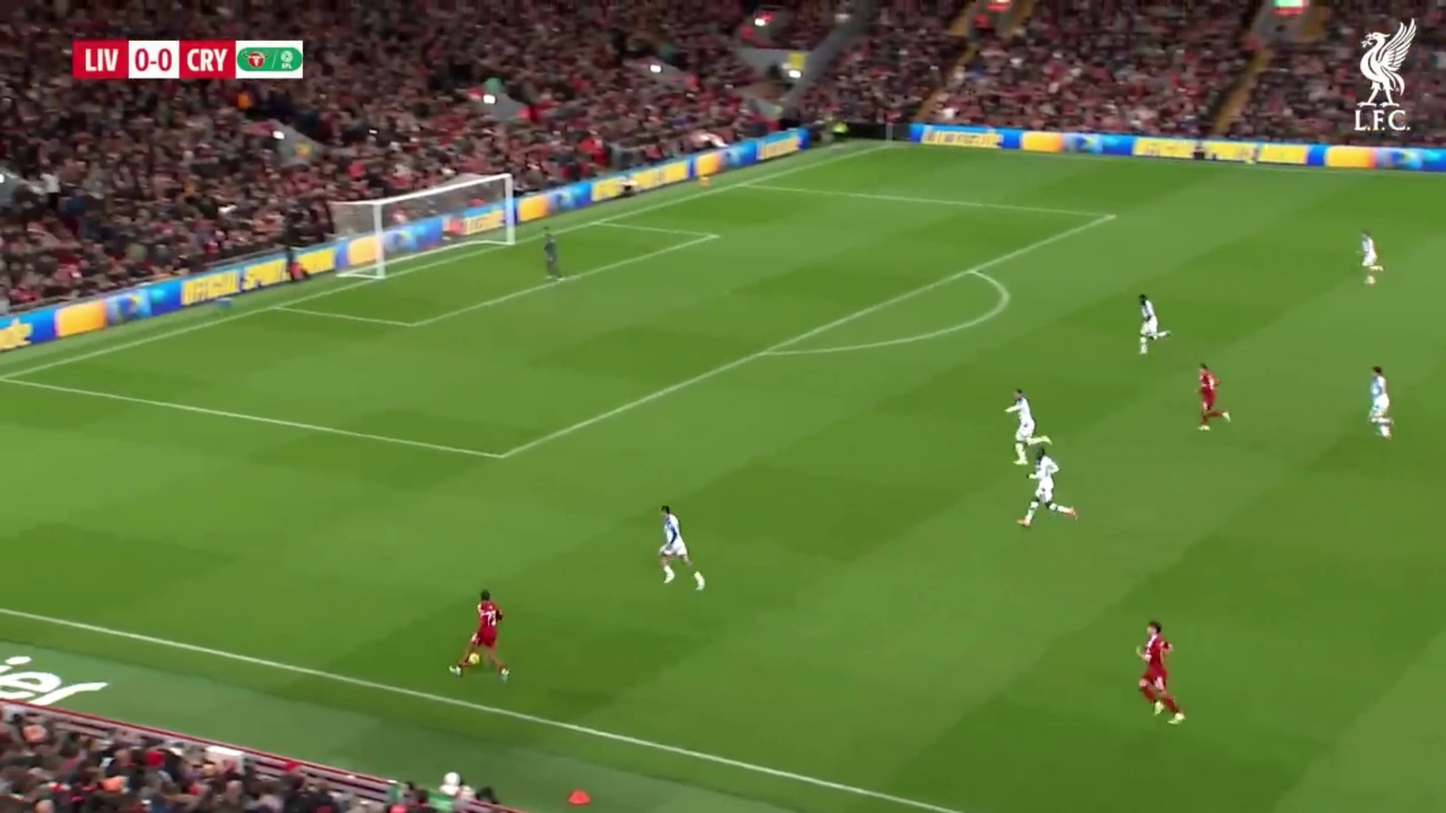player: (1014, 440, 1079, 528), (448, 590, 510, 678), (1136, 620, 1183, 723), (657, 506, 707, 591), (1006, 389, 1043, 467), (658, 507, 692, 587), (1196, 364, 1233, 429), (1367, 365, 1394, 440), (1137, 291, 1165, 357), (1358, 230, 1387, 285), (541, 235, 563, 278)
